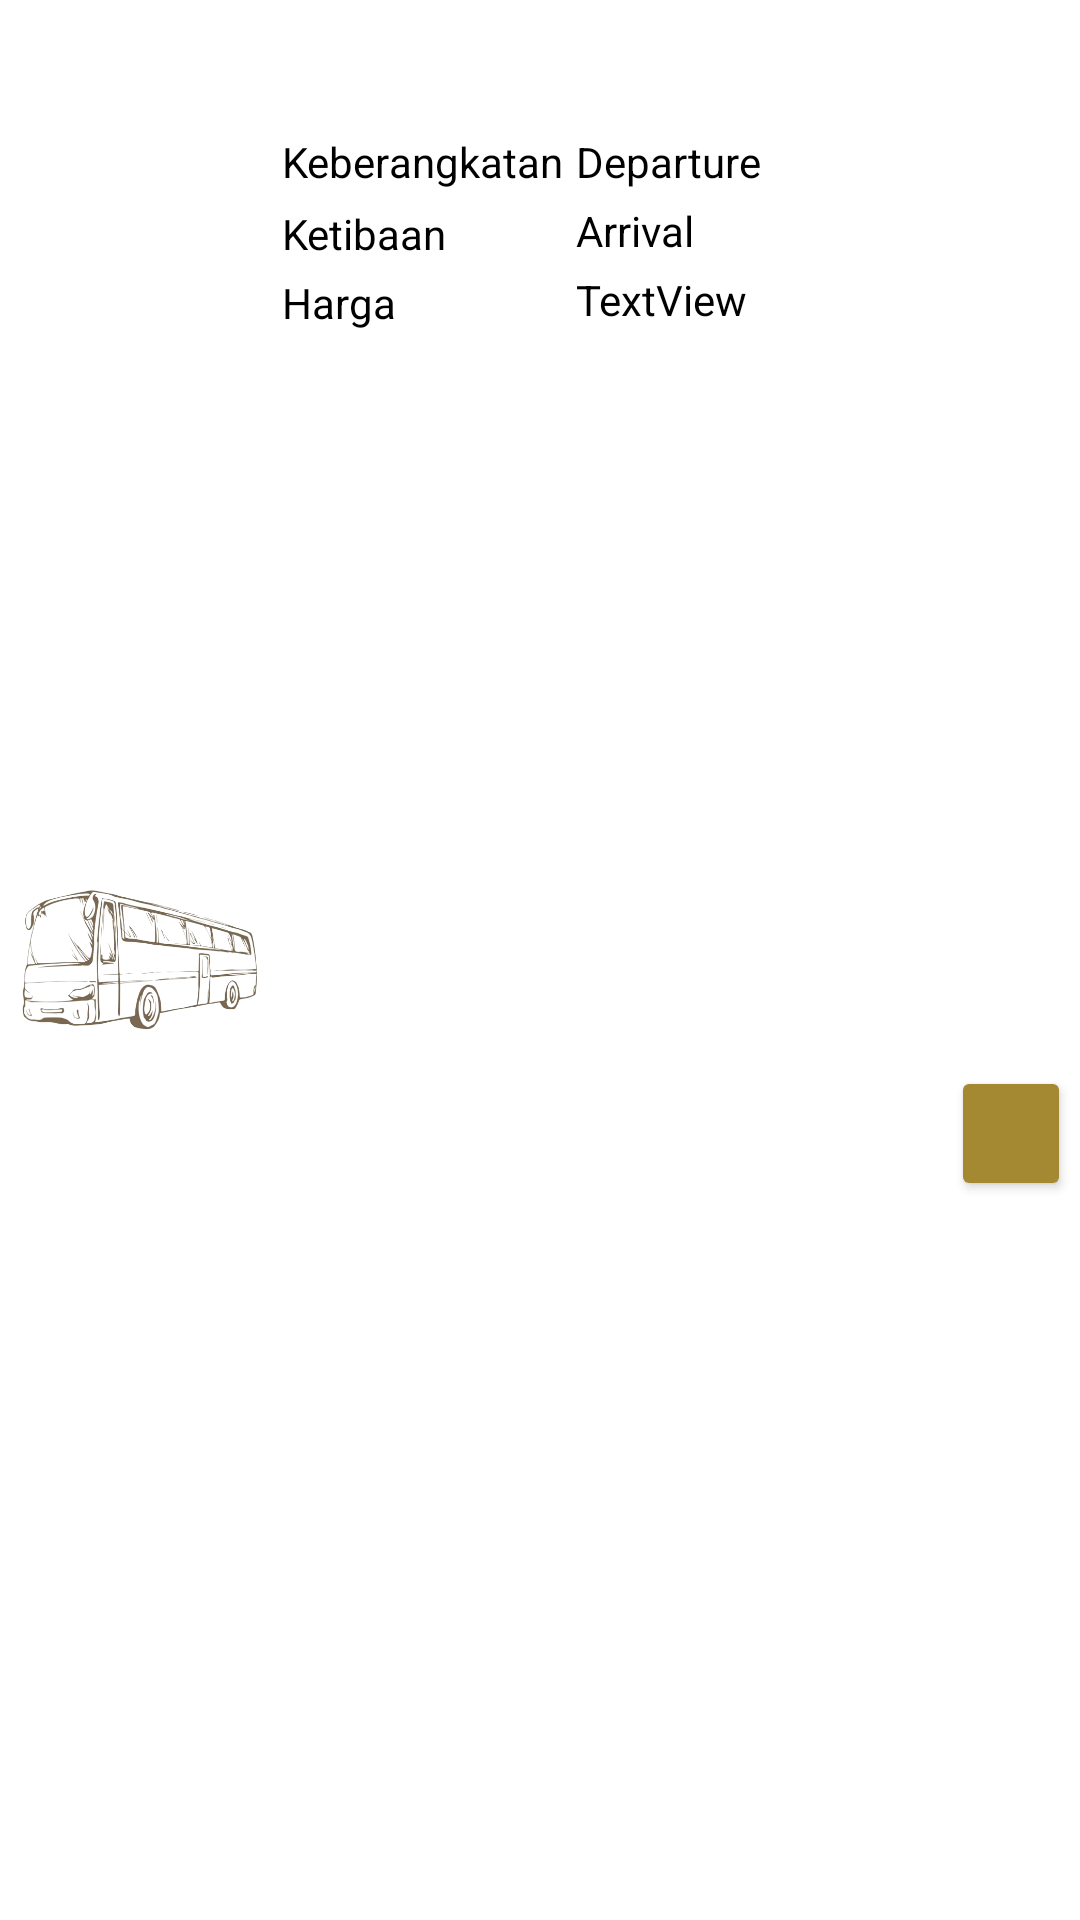

Named icons in this screenshot (1080w x 1920h) and their centers, point (x, y):
bus pict: point (139, 959)
